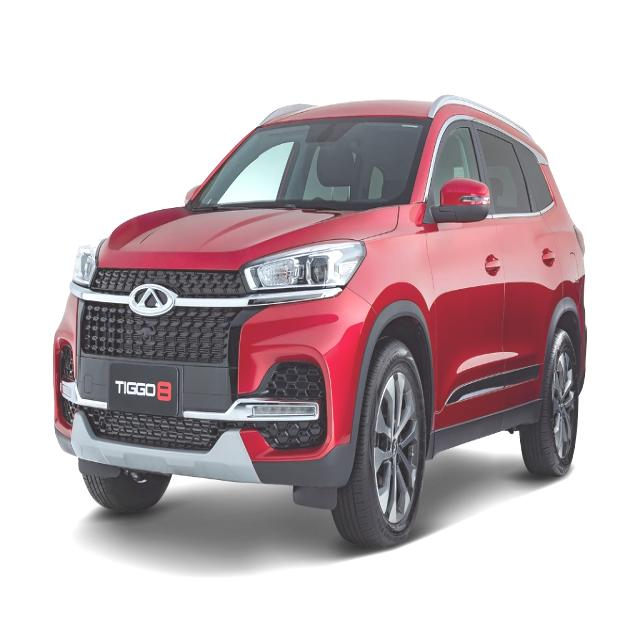SUV: (50, 95, 583, 553)
